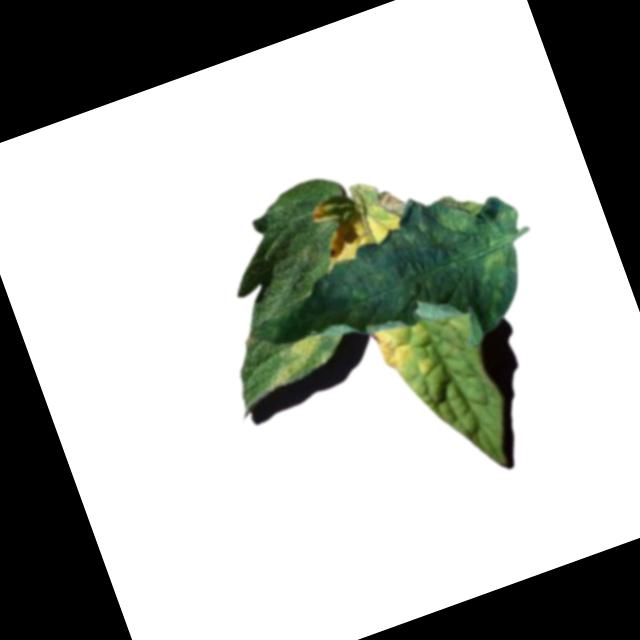Leaf_Mold: (307, 176, 408, 272), (371, 315, 441, 394), (414, 184, 493, 253), (262, 330, 340, 395)
